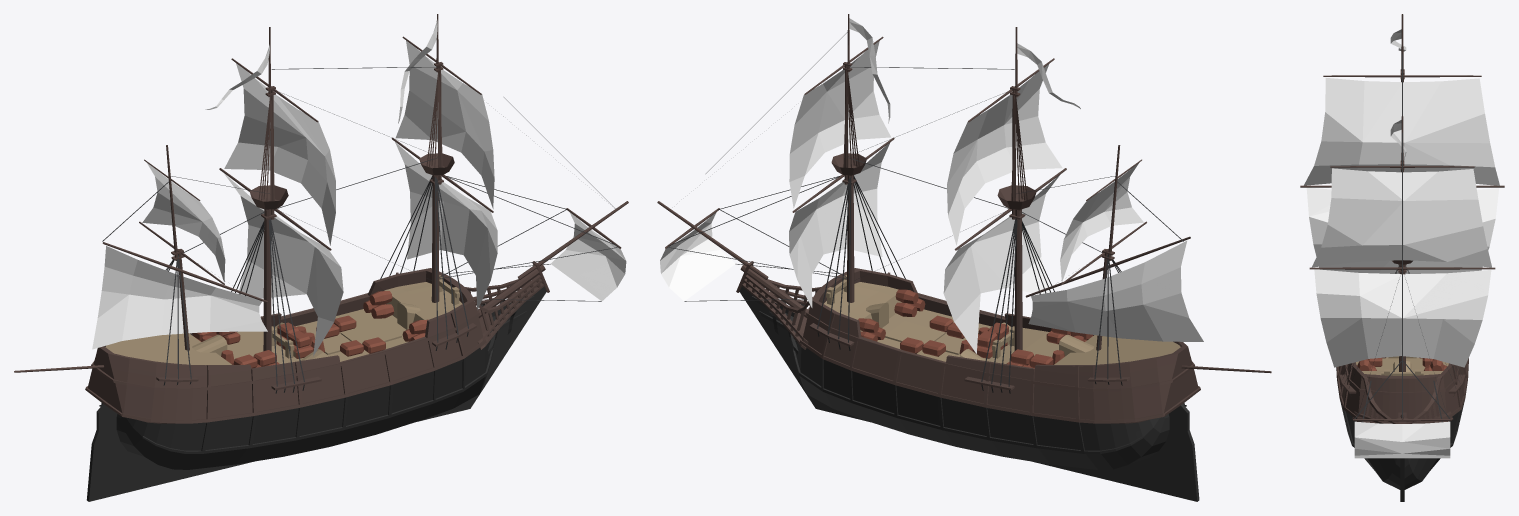
File: Galleon.fbx
3 renders of one model, left to right at view 1: azimuth 30°, elevation 25°; view 2: azimuth 150°, elevation 25°; view 3: azimuth 270°, elevation 25°, orthographic. The views are drawn at different scales.
Visible parts, largest first — view 1: model_0.032; view 2: model_0.032; view 3: model_0.032.
Boxes of the visible parts, x1=… form: model_0.032: x1=14, y1=14, x2=628, y2=501; model_0.032: x1=657, y1=14, x2=1271, y2=501; model_0.032: x1=1300, y1=14, x2=1504, y2=501.
Size of the model in its own units: 65381 by 43726 by 20365.
